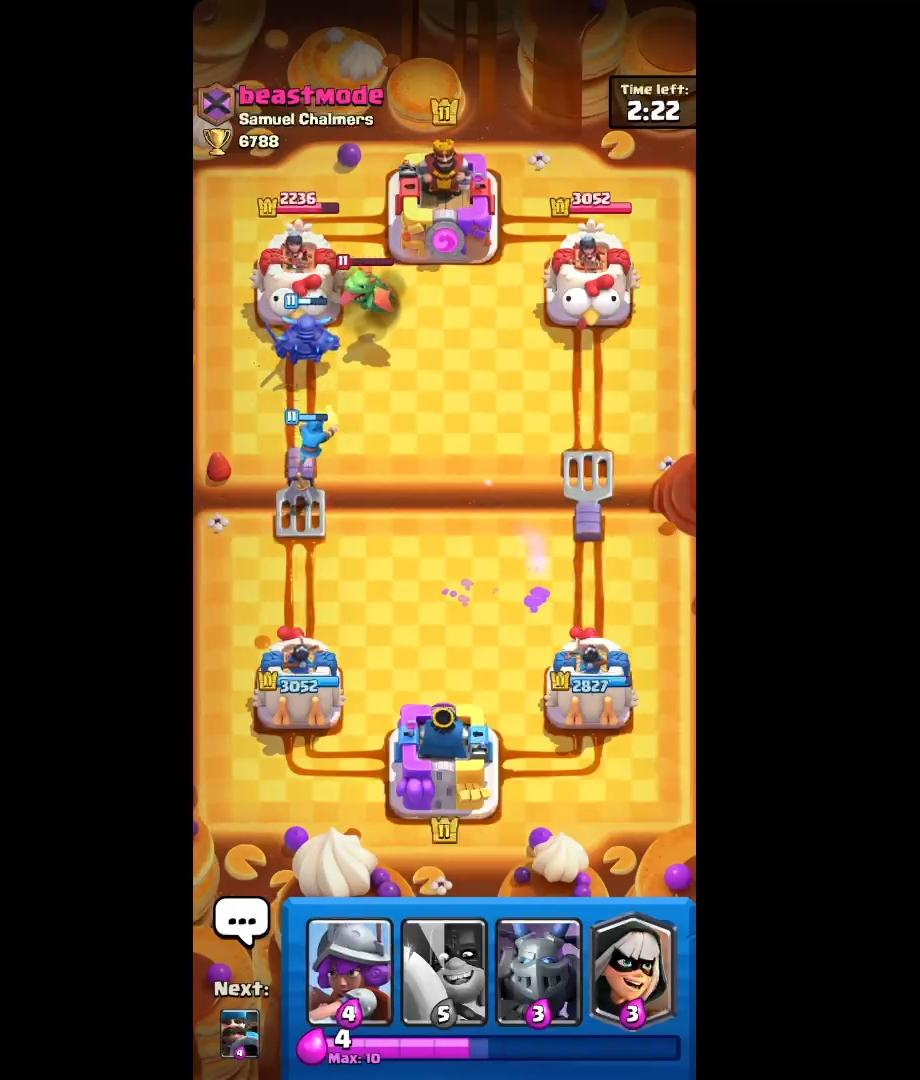Baby Dragon: (329, 253, 399, 322)
